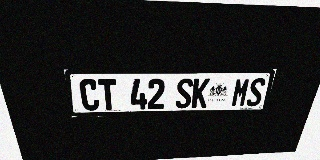2: (148, 78, 165, 109)
4: (130, 79, 147, 110)
C: (79, 79, 100, 111)
K: (191, 78, 210, 108)
M: (231, 78, 251, 107)
S: (245, 78, 267, 107), (175, 78, 194, 108)
T: (98, 79, 118, 110)
